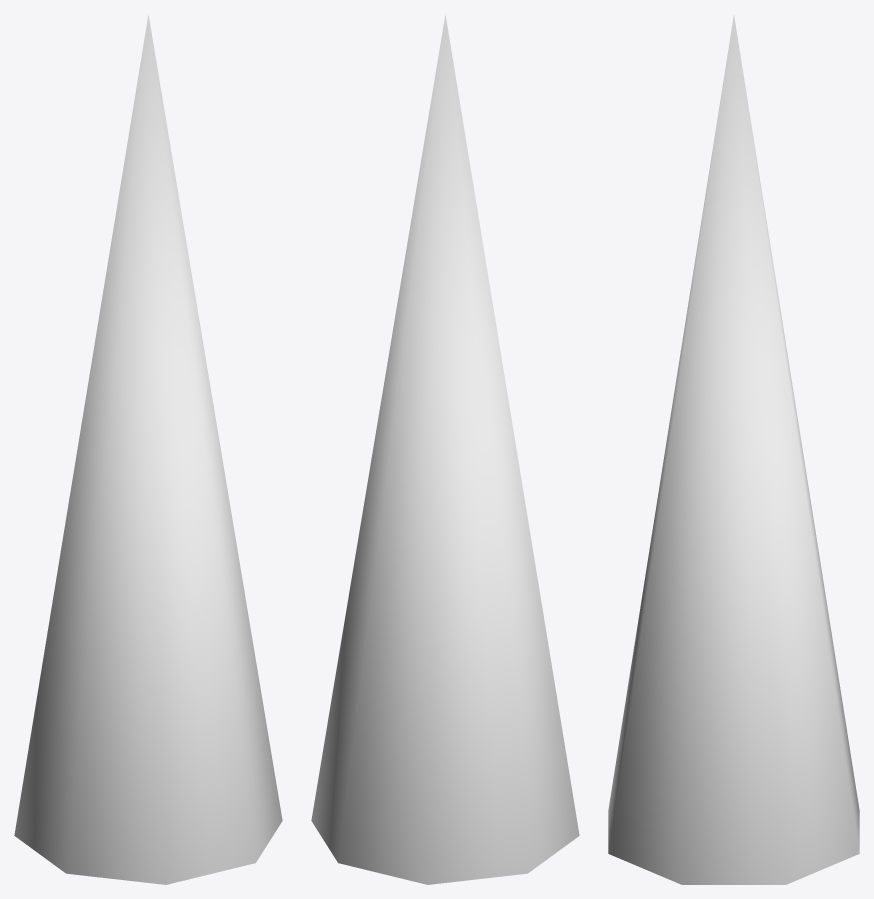
File: Spike.fbx
3 renders of one model, left to right at view 1: azimuth 30°, elevation 25°; view 2: azimuth 150°, elevation 25°; view 3: azimuth 270°, elevation 25°, orthographic.
Visible parts, largest first — view 1: Spike; view 2: Spike; view 3: Spike.
Boxes of the visible parts, box(x1,y1,x2,y2) form: Spike: box(14, 14, 282, 884); Spike: box(311, 14, 579, 884); Spike: box(608, 15, 859, 884).
Bounding box in the file's own units: 0.1095 × 0.3935 × 0.1095.
1 material, 1 textured.
